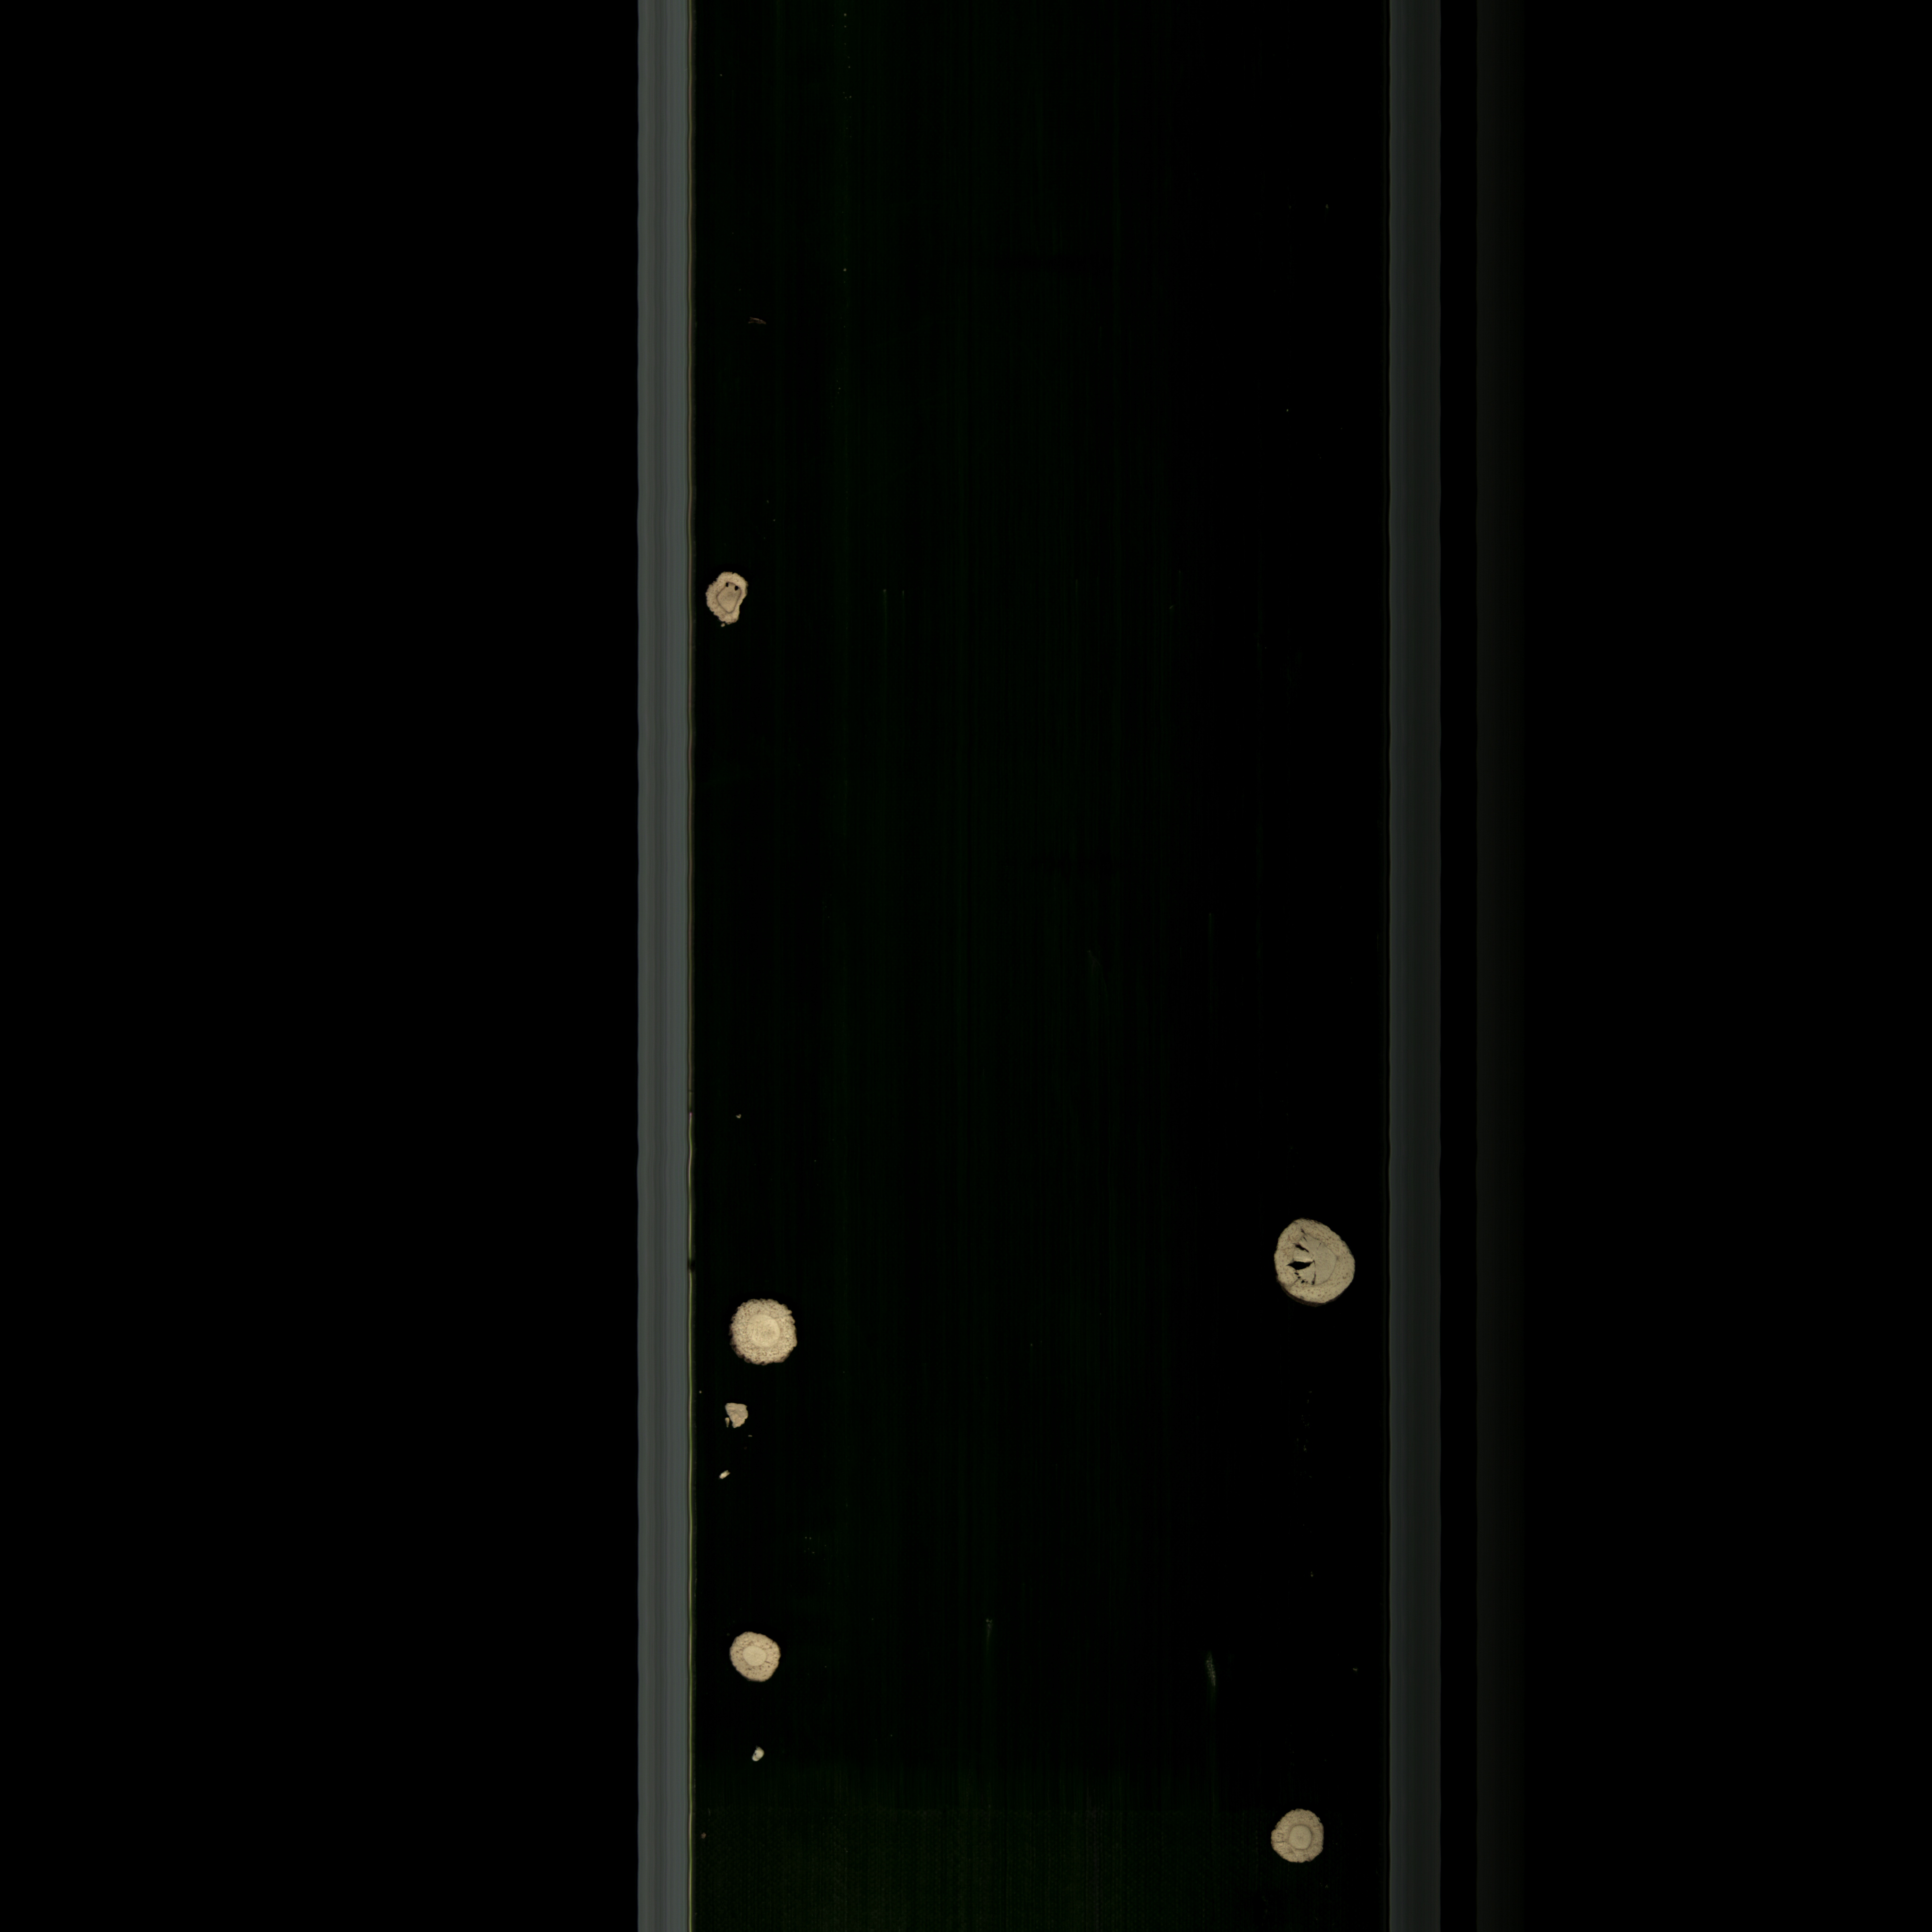dreg: (718, 1394, 755, 1447), (741, 1739, 766, 1769), (717, 1465, 738, 1491)
hole: (1261, 1207, 1364, 1318)
moldy: (699, 566, 755, 633)
